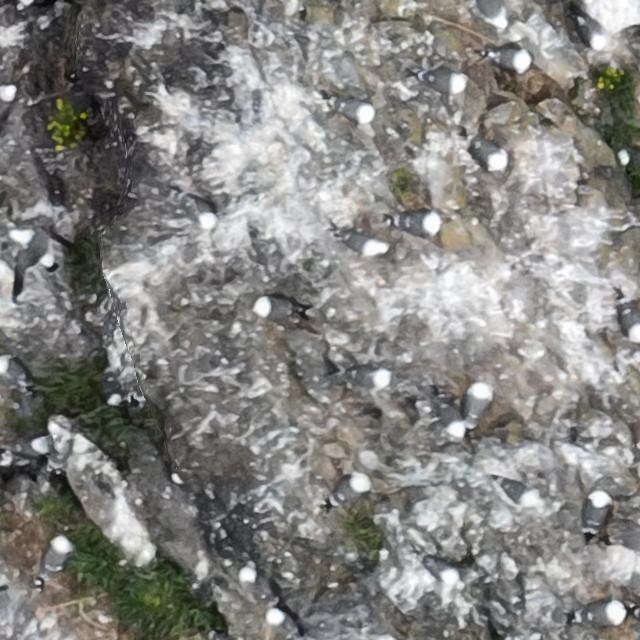F: (8, 226, 60, 281)
umineko: (436, 392, 465, 438), (574, 10, 606, 49), (465, 382, 490, 426), (1, 352, 31, 388), (420, 70, 465, 93), (339, 232, 385, 254), (332, 474, 368, 502), (580, 603, 623, 626), (180, 195, 218, 220), (619, 299, 640, 344), (398, 213, 439, 236), (496, 479, 536, 502), (332, 98, 373, 120), (44, 536, 68, 572), (489, 49, 530, 70), (255, 298, 298, 318), (422, 557, 457, 581), (587, 490, 609, 528), (344, 368, 387, 387), (268, 610, 297, 638), (477, 1, 506, 28), (16, 436, 50, 459), (476, 144, 506, 169), (1, 84, 21, 118), (97, 379, 122, 406), (229, 565, 262, 584), (619, 149, 639, 167)
